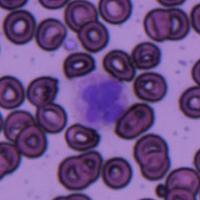N: (75, 72, 130, 128)
